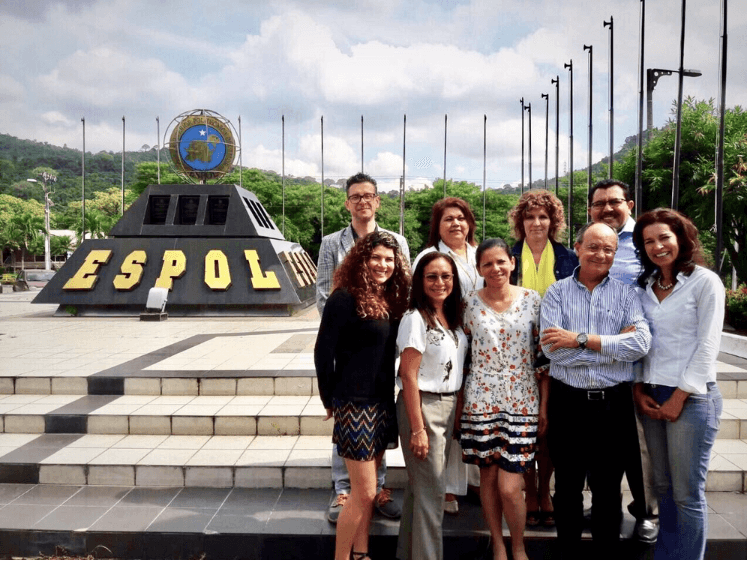person: (547, 223, 657, 442), (459, 217, 548, 434), (397, 233, 471, 461), (319, 234, 409, 389)
